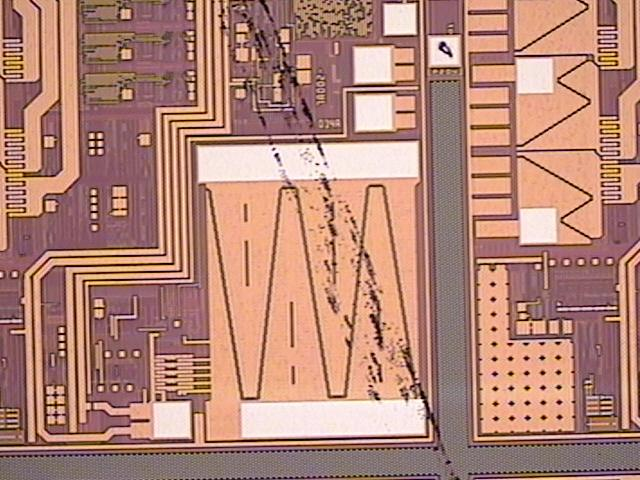SCRATCH: (207, 1, 464, 480)
